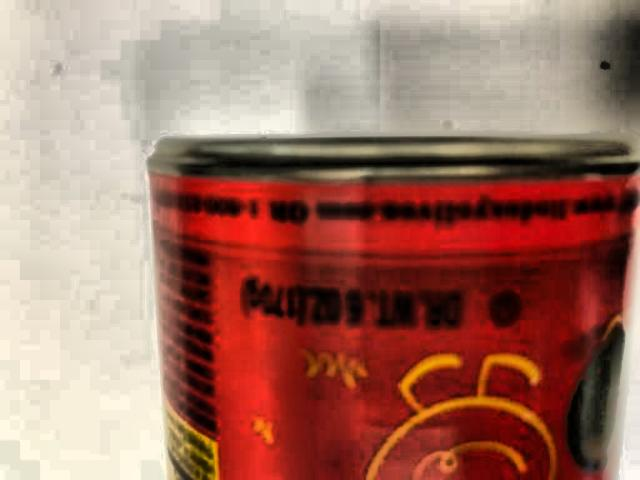Almennt: (107, 101, 640, 480)
